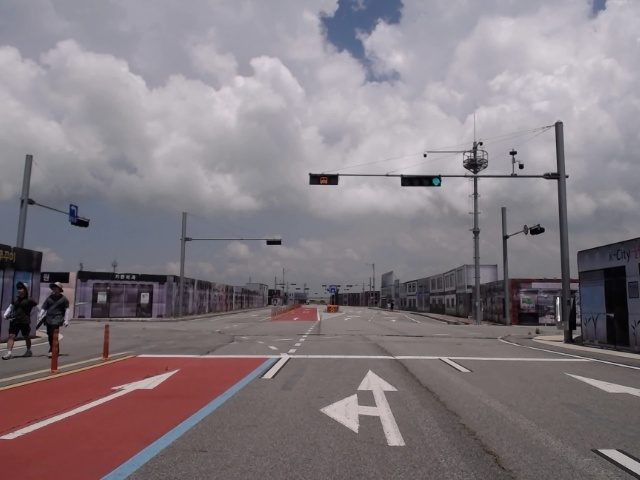straight_green_4: (400, 176, 443, 185)
